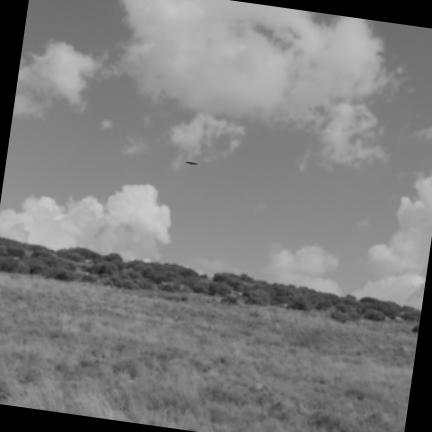Shahed: (185, 161, 197, 164)
